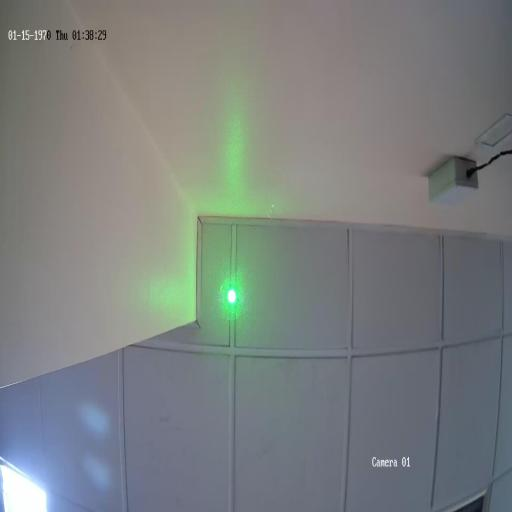laser: (217, 276, 244, 317)
